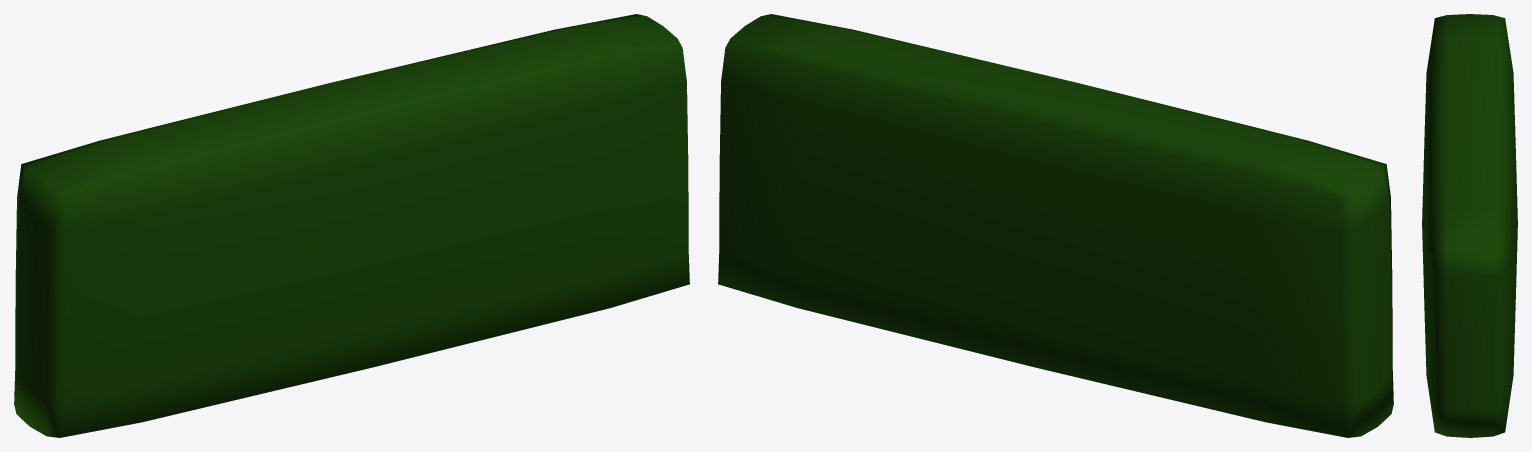
The model's file is Bush.fbx.
3 views of the same model, side by side, from view 1: azimuth 30°, elevation 25°; view 2: azimuth 150°, elevation 25°; view 3: azimuth 270°, elevation 25° (orthographic). The views are drawn at different scales.
Visible parts, largest first — view 1: Bush; view 2: Bush; view 3: Bush.
Boxes of the visible parts, <box> form: Bush: <box>14,14,689,437</box>; Bush: <box>718,14,1393,437</box>; Bush: <box>1422,14,1517,437</box>.
Bounding box in the file's own units: 592 × 236 × 100.
